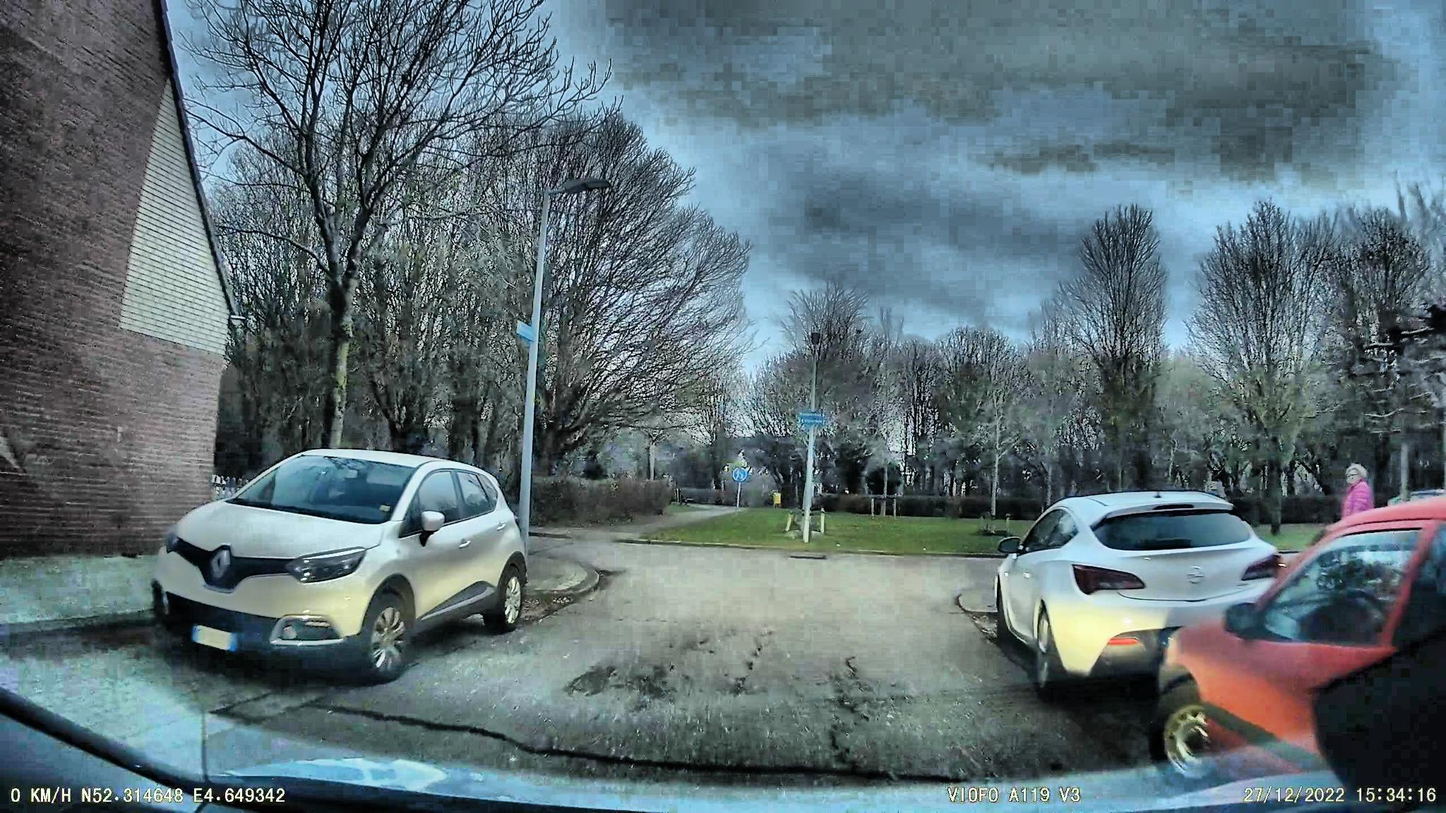Roads: (0, 541, 1137, 813)
